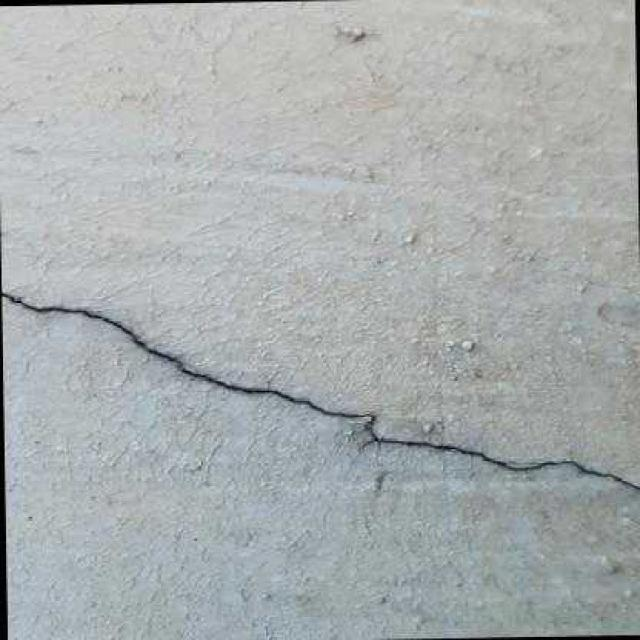D00: (0, 293, 640, 489)
